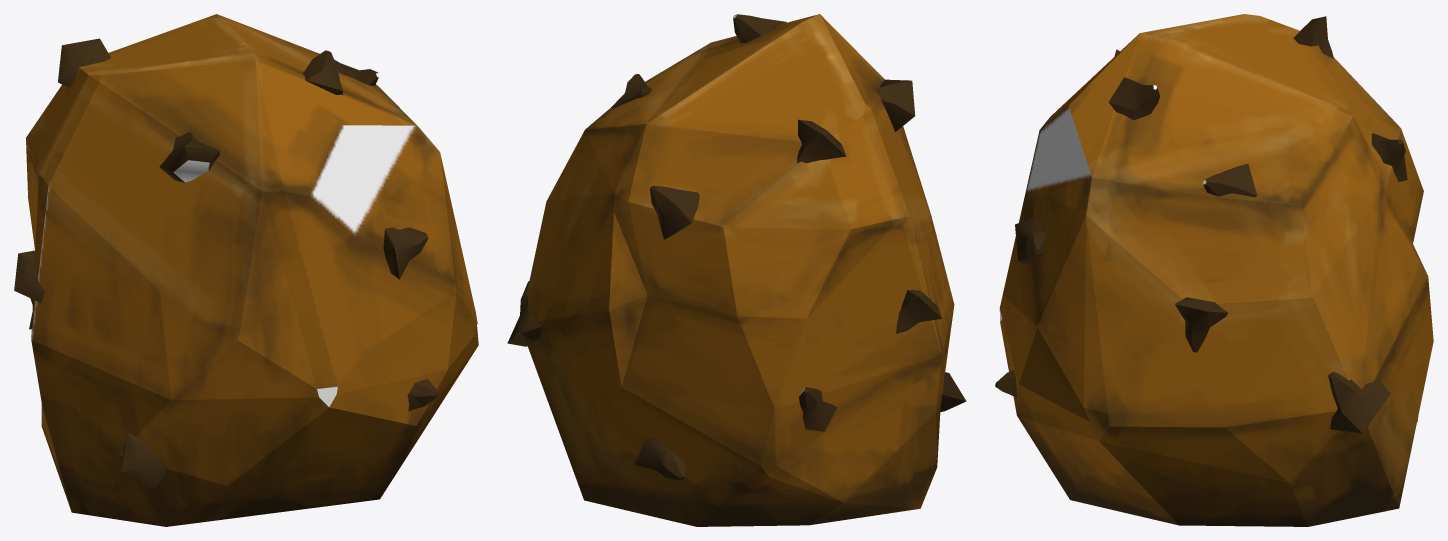
File: CookieRock2.fbx
The picture shows the model from 3 angles, left to right: view 1: azimuth 30°, elevation 25°; view 2: azimuth 150°, elevation 25°; view 3: azimuth 270°, elevation 25°; orthographic projection. The views are drawn at different scales.
Visible parts, largest first — view 1: Cookie, Chunks; view 2: Cookie, Chunks; view 3: Cookie, Chunks.
Boxes of the visible parts, x1,y1,x2,y2 form: Cookie: (26,14,478,526); Chunks: (14,38,438,489); Cookie: (526,14,954,526); Chunks: (507,14,966,480); Cookie: (999,14,1433,526); Chunks: (995,16,1418,433).
Size of the model in its own units: 395 by 422 by 384.
2 materials, 2 textured.
